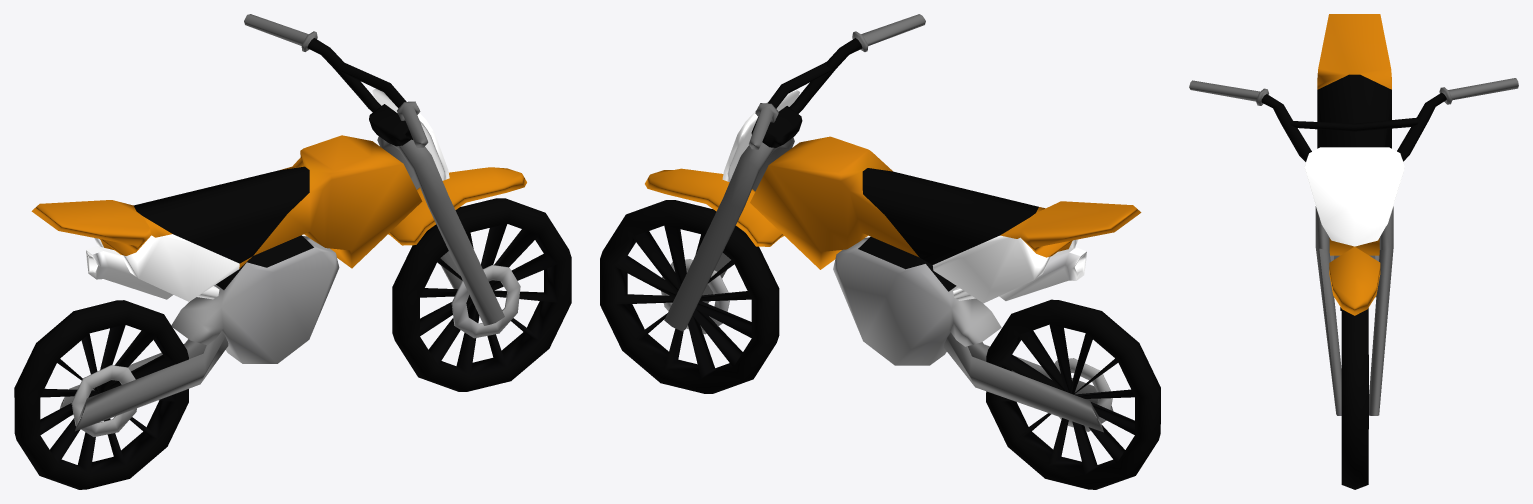
The model's file is DirtBike250ccOrange.glb.
3 views of the same model, side by side, from view 1: azimuth 30°, elevation 25°; view 2: azimuth 150°, elevation 25°; view 3: azimuth 270°, elevation 25° (orthographic). The views are drawn at different scales.
Parts seen in each view (by area): view 1: DirtBike250ccOrange; view 2: DirtBike250ccOrange; view 3: DirtBike250ccOrange.
Boxes of the visible parts, <box> form: DirtBike250ccOrange: <box>14,14,571,489</box>; DirtBike250ccOrange: <box>600,14,1160,489</box>; DirtBike250ccOrange: <box>1189,14,1518,489</box>.
Size of the model in its own units: 2.46 by 1.49 by 1.33.
1 material, 1 textured.
